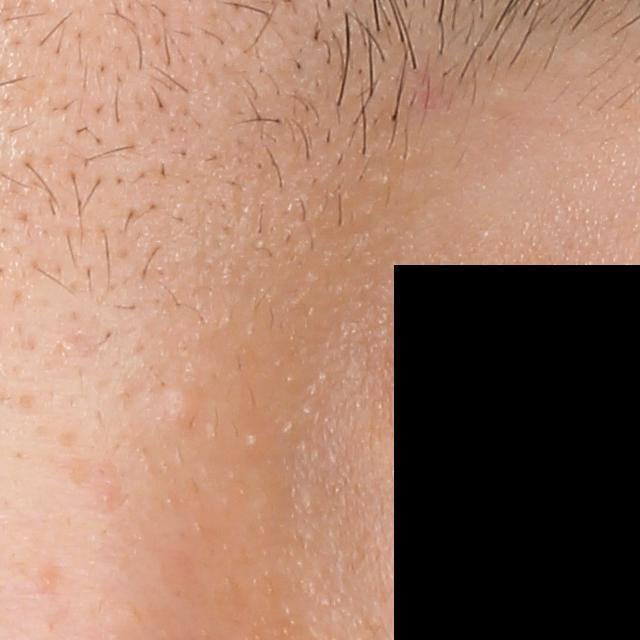comedo: (157, 382, 202, 435)
